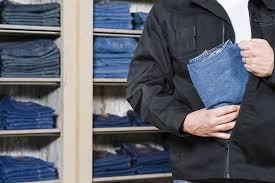shoplifting: (104, 30, 275, 181)
